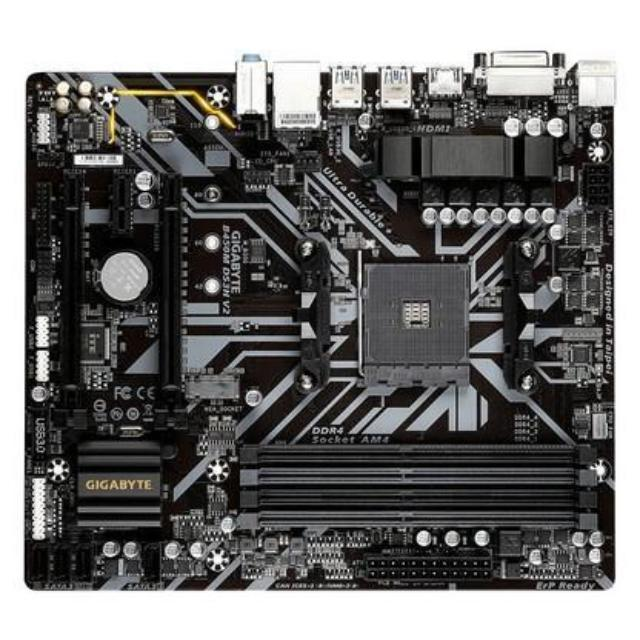Mainboard: (23, 52, 623, 608)
